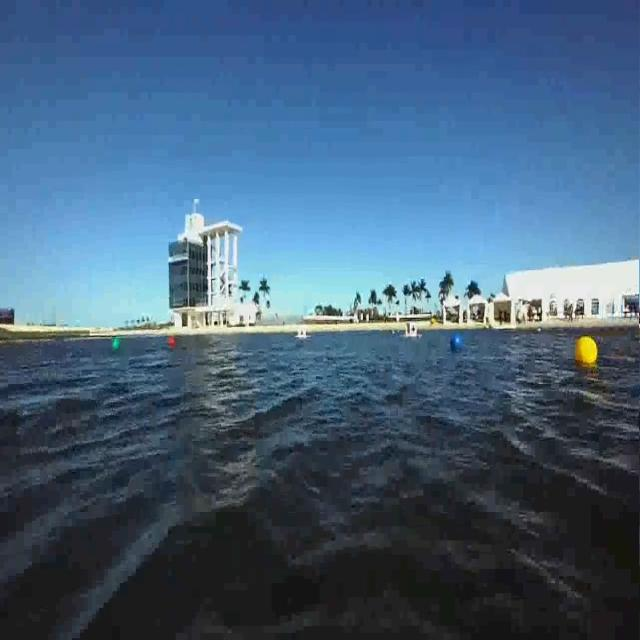blue-buoy: (452, 336, 464, 352)
yellow-buoy: (568, 330, 601, 372)
